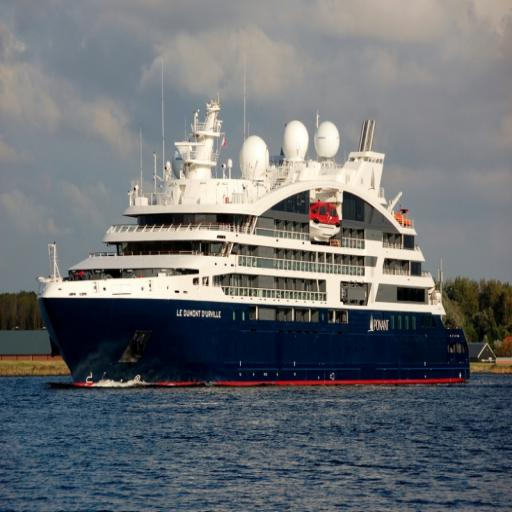cruises: (35, 92, 473, 393)
